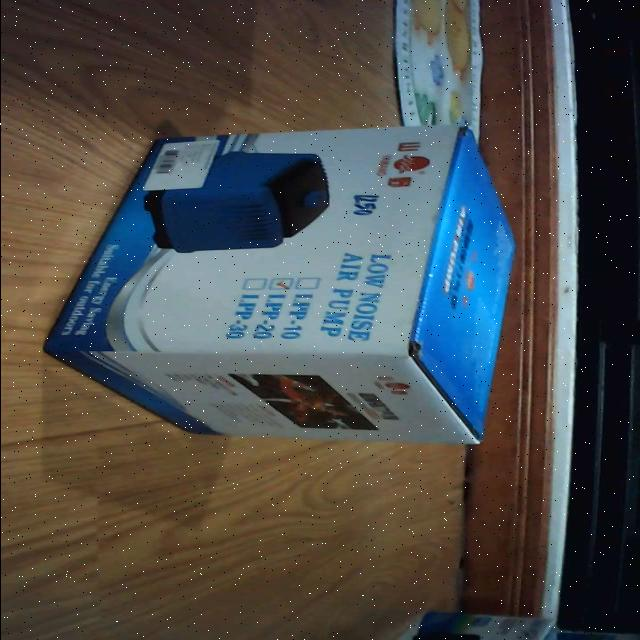YAMANO_LPP_20: (39, 116, 529, 456)
